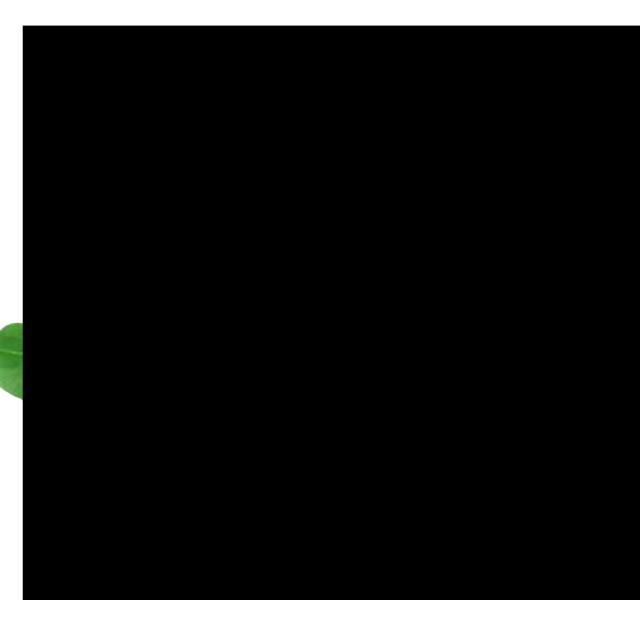Tori_ko_Saag: (22, 25, 640, 600)
